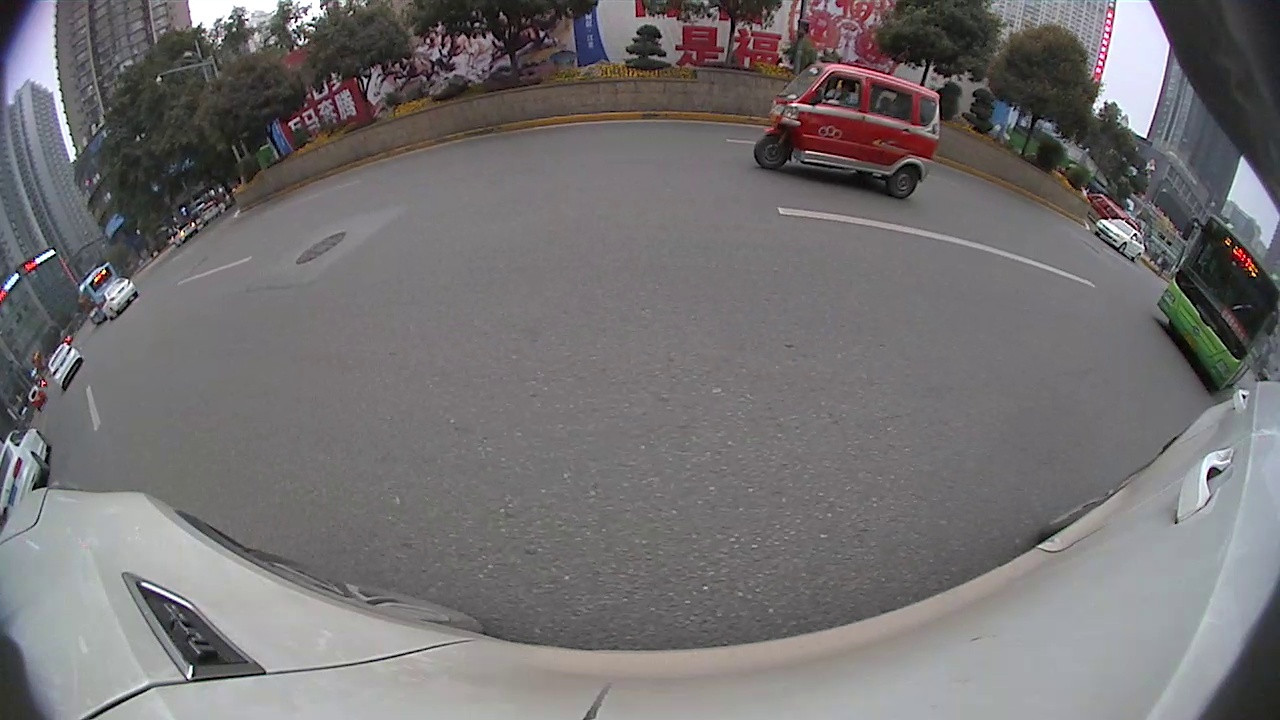bus: (1154, 211, 1277, 396), (75, 261, 119, 327)
car: (0, 429, 51, 528), (1088, 216, 1148, 263), (46, 340, 85, 395), (100, 276, 138, 320)
front: (749, 133, 788, 172), (1114, 243, 1131, 254)
rear: (887, 168, 920, 200), (1131, 251, 1143, 264)
rider: (750, 59, 943, 198), (1085, 189, 1125, 227)
